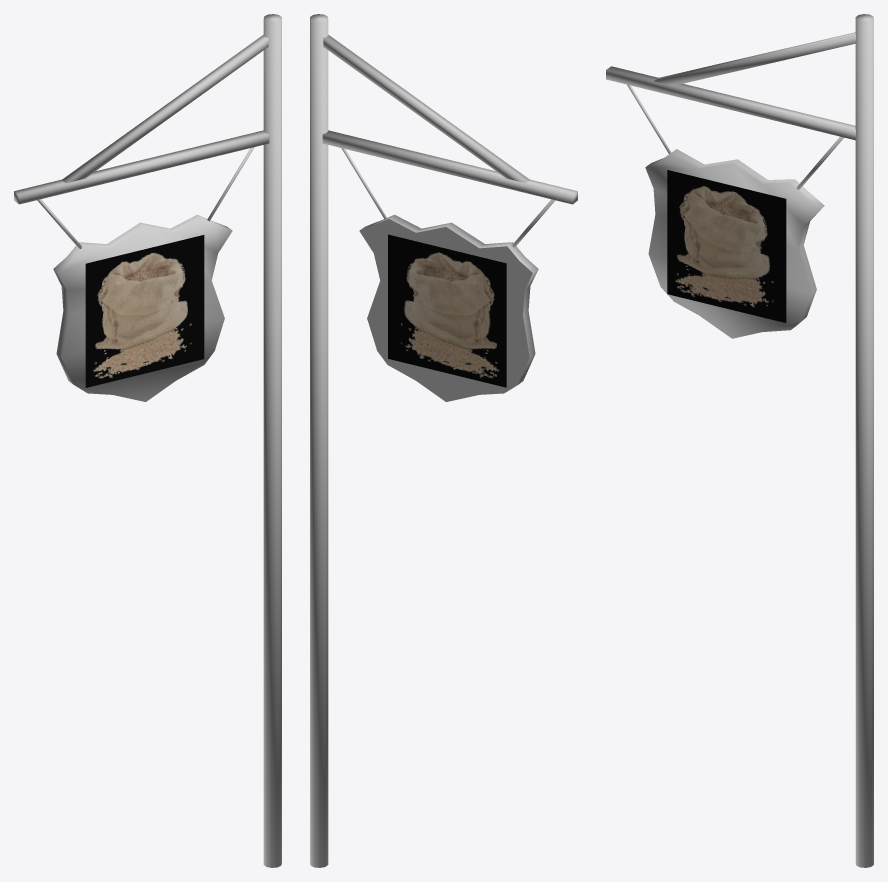
Rendered from sign2.fbx.
The picture shows the model from 3 angles, left to right: view 1: azimuth 30°, elevation 25°; view 2: azimuth 150°, elevation 25°; view 3: azimuth 330°, elevation 25°; orthographic projection.
Visible parts, largest first — view 1: wood3, sign2, wood2, fabric1; view 2: wood3, sign2, wood2, fabric1; view 3: wood3, sign2, wood2, fabric1.
Part boxes in pixels (box(x1,y1,x2,y2)): wood3: box(14, 14, 281, 867); sign2: box(85, 235, 204, 387); wood2: box(53, 214, 232, 401); fabric1: box(37, 147, 254, 249); wood3: box(310, 14, 577, 867); sign2: box(388, 234, 506, 387); wood2: box(359, 214, 538, 401); fabric1: box(341, 148, 555, 247); wood3: box(606, 14, 873, 867); sign2: box(667, 170, 786, 322); wood2: box(645, 149, 824, 338); fabric1: box(627, 84, 843, 189).
Size of the model in its own units: 17.15 by 52.56 by 1.09.
